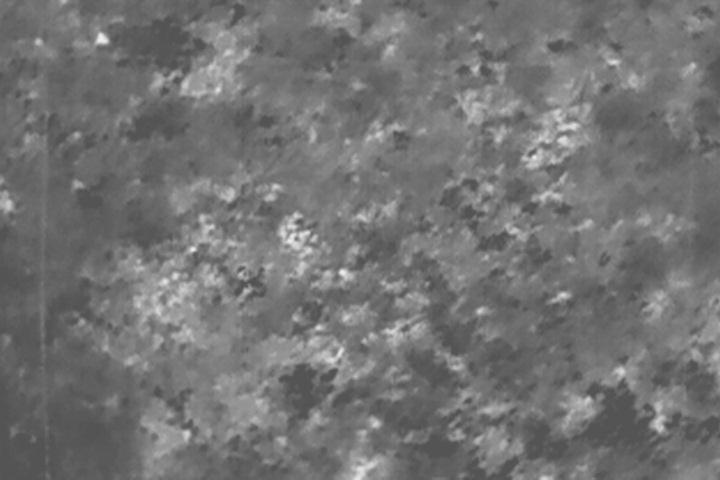landmine: (278, 207, 318, 249)
